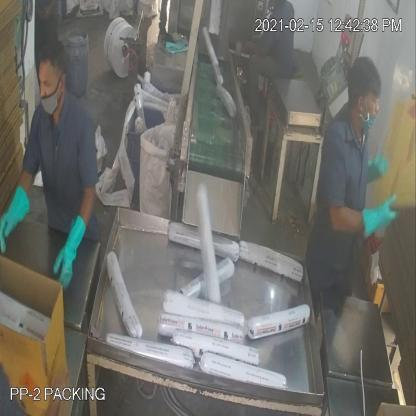glove: (49, 209, 94, 301), (0, 189, 34, 260), (358, 193, 402, 246)
no_glove: (242, 37, 268, 64)
